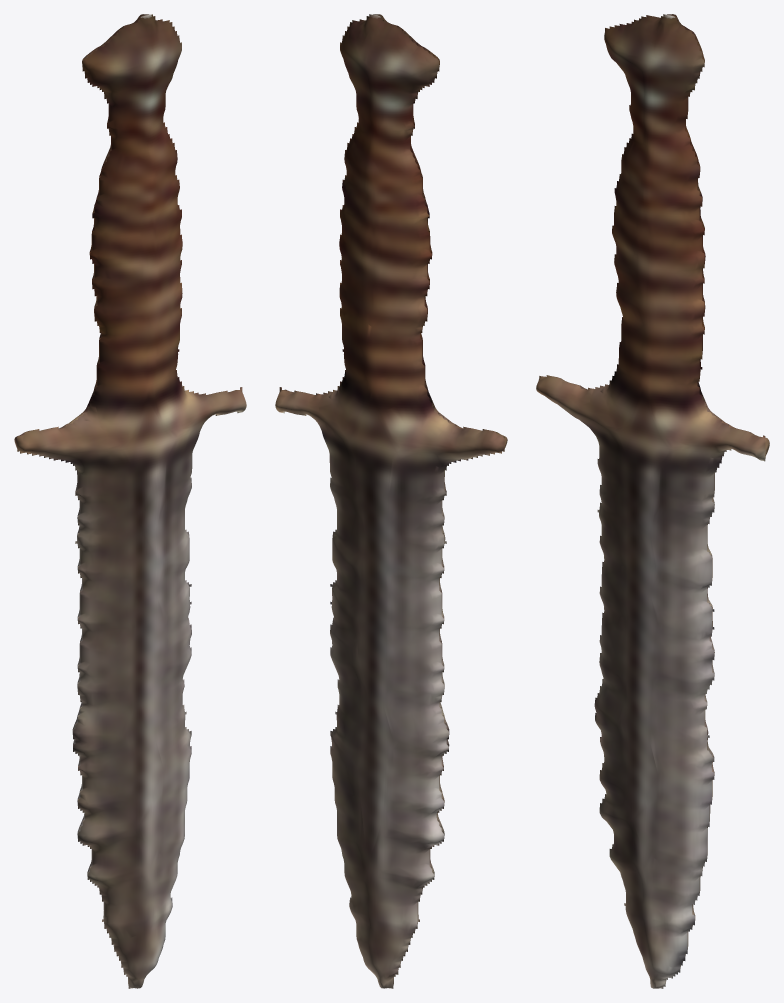
File: dolch.glb
3 renders of one model, left to right at view 1: azimuth 30°, elevation 25°; view 2: azimuth 150°, elevation 25°; view 3: azimuth 330°, elevation 25°, orthographic.
Parts seen in each view (by area): view 1: dolch; view 2: dolch; view 3: dolch.
Part boxes in pixels (bbox=[...]): dolch: bbox=[14, 14, 246, 988]; dolch: bbox=[275, 14, 507, 988]; dolch: bbox=[536, 14, 769, 988].
Size of the model in its own units: 0.0921 by 0.3791 by 0.02.
1 material, 1 textured.
